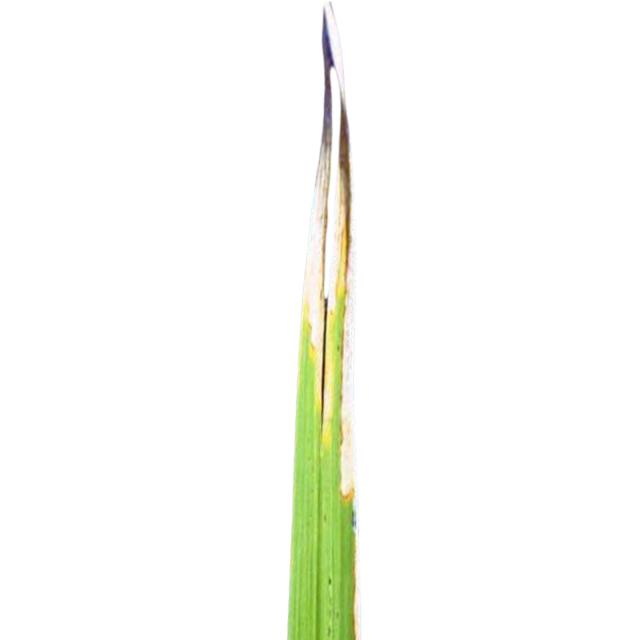Leaf scald: (177, 1, 417, 640)
